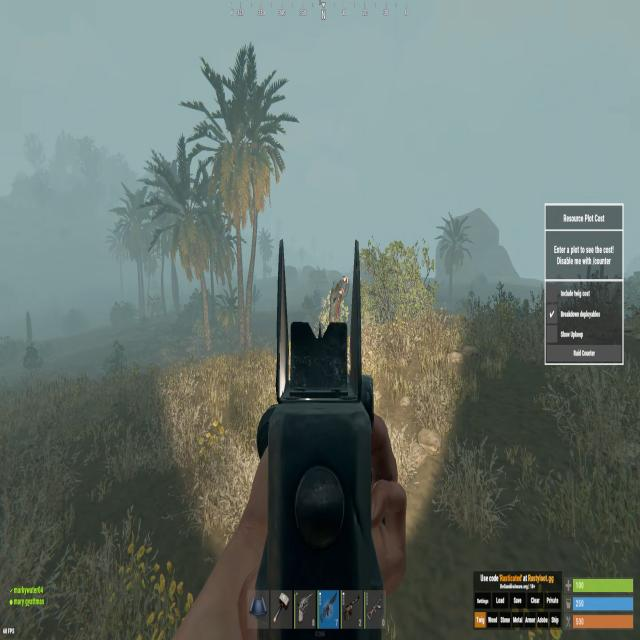Player: (329, 274, 350, 322)
